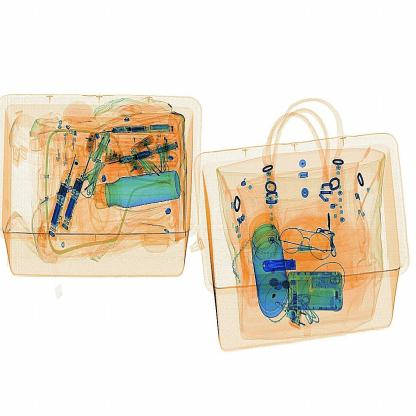knife: (260, 245, 306, 278)
